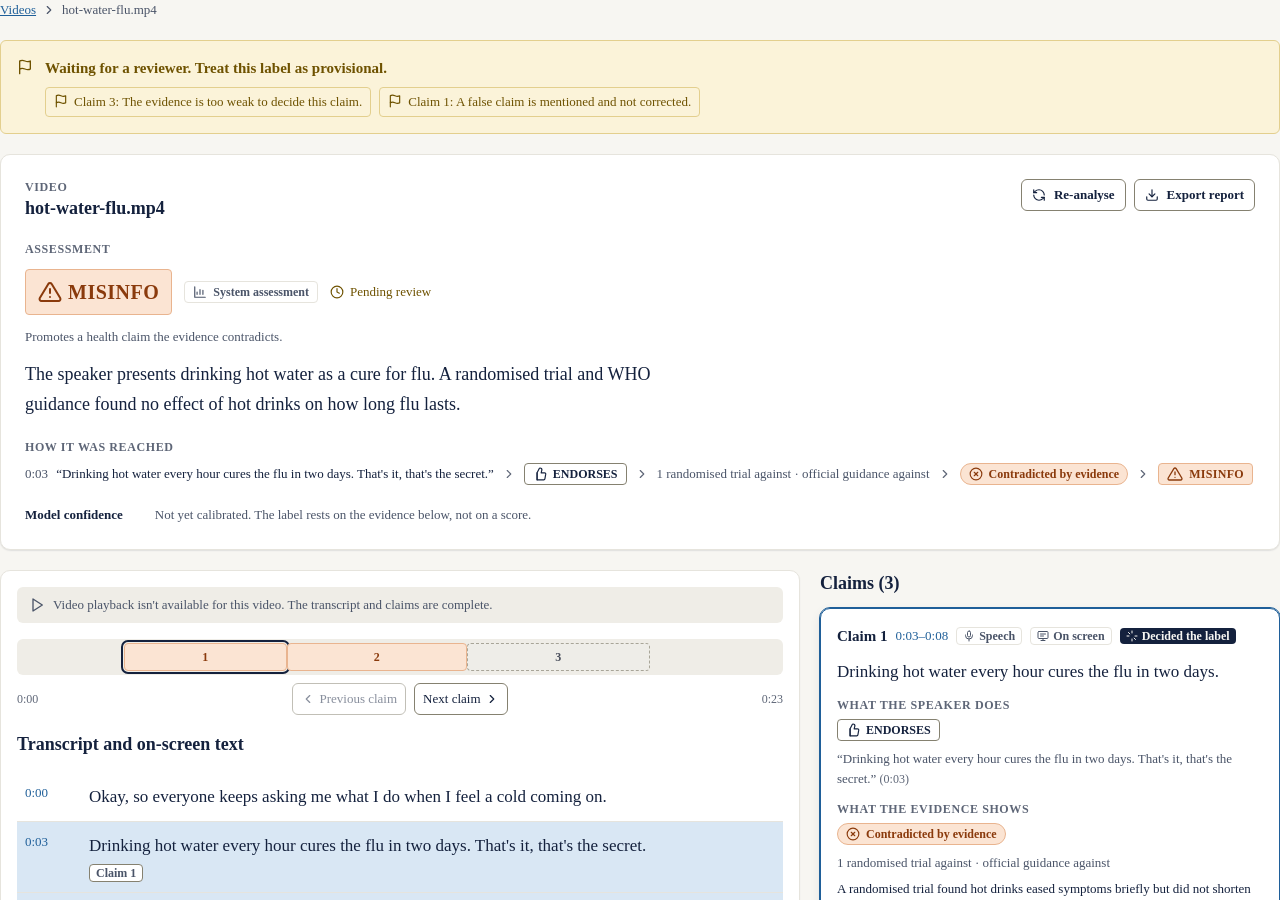
Scenario: Re-analyse button and dialog (T55) › keeps the dialog open with the reason when the server refuses (e.g. the rate limit)
Click the button "Re-analyse" at {"x": 1073, "y": 195}, box [1021, 179, 1126, 211]
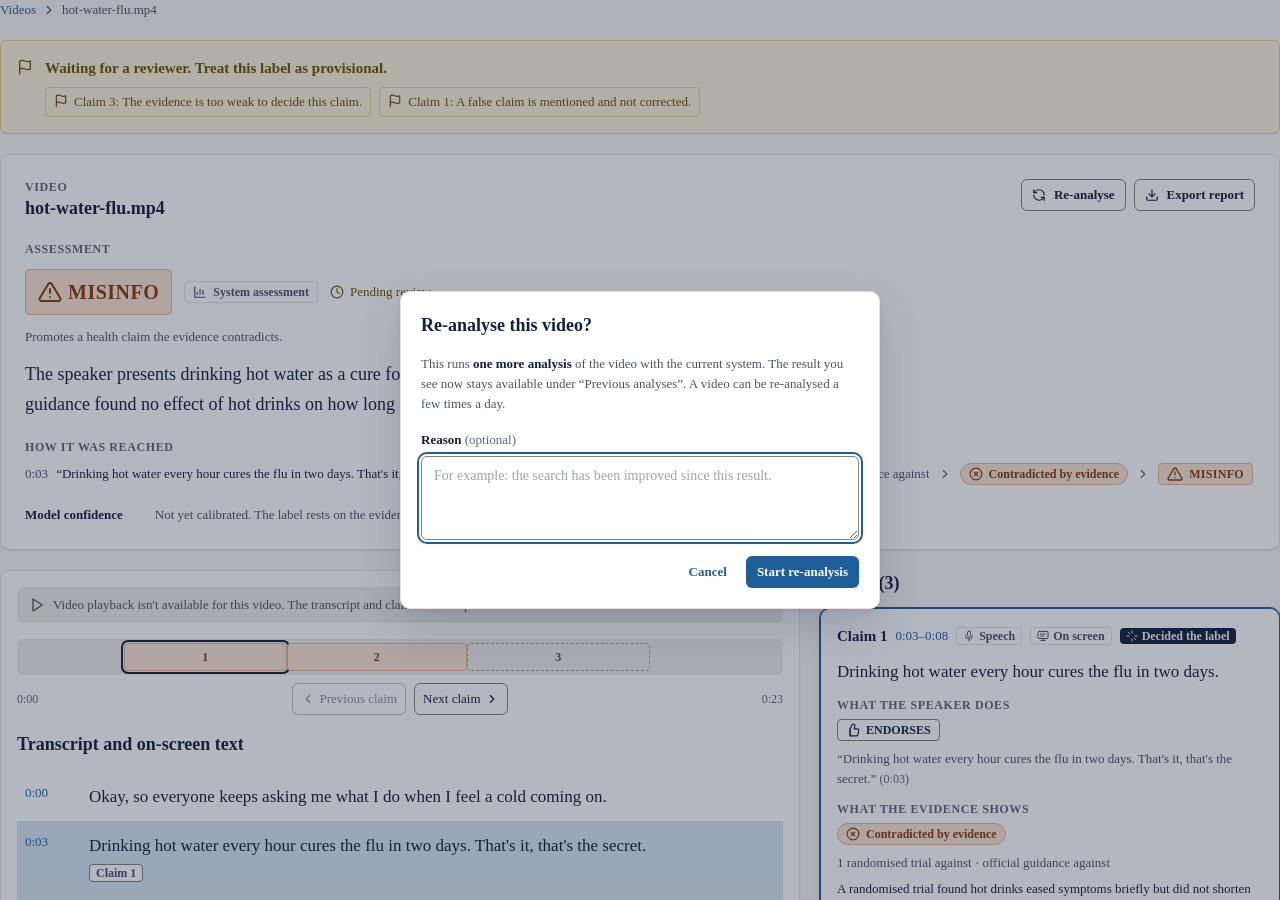
Click the button "Start re-analysis" at {"x": 802, "y": 572}, box [746, 556, 859, 588]
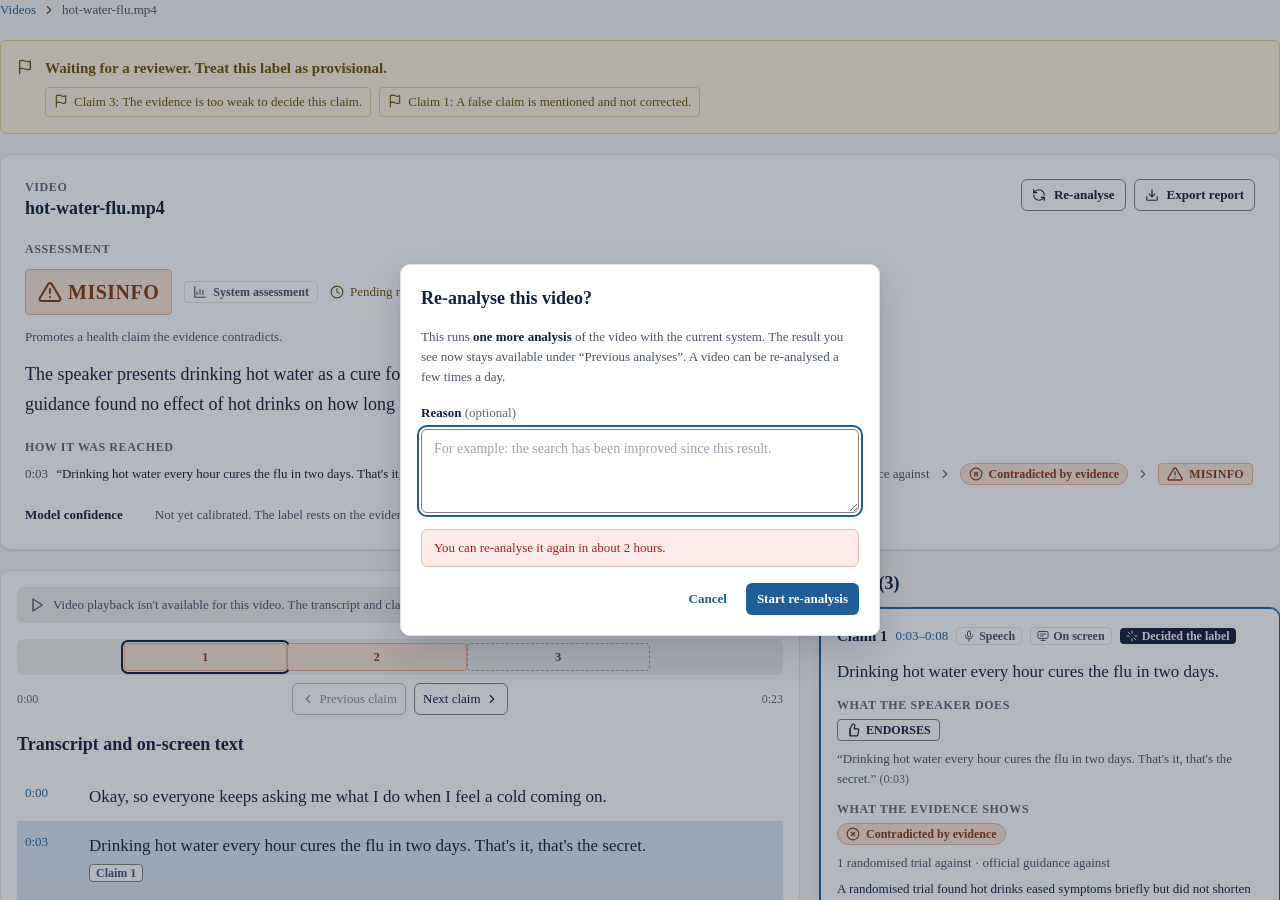
Now the message shows "in about 2 hours", box [434, 540, 666, 555]
Click the button "Cancel" at {"x": 708, "y": 599}, box [678, 583, 738, 615]
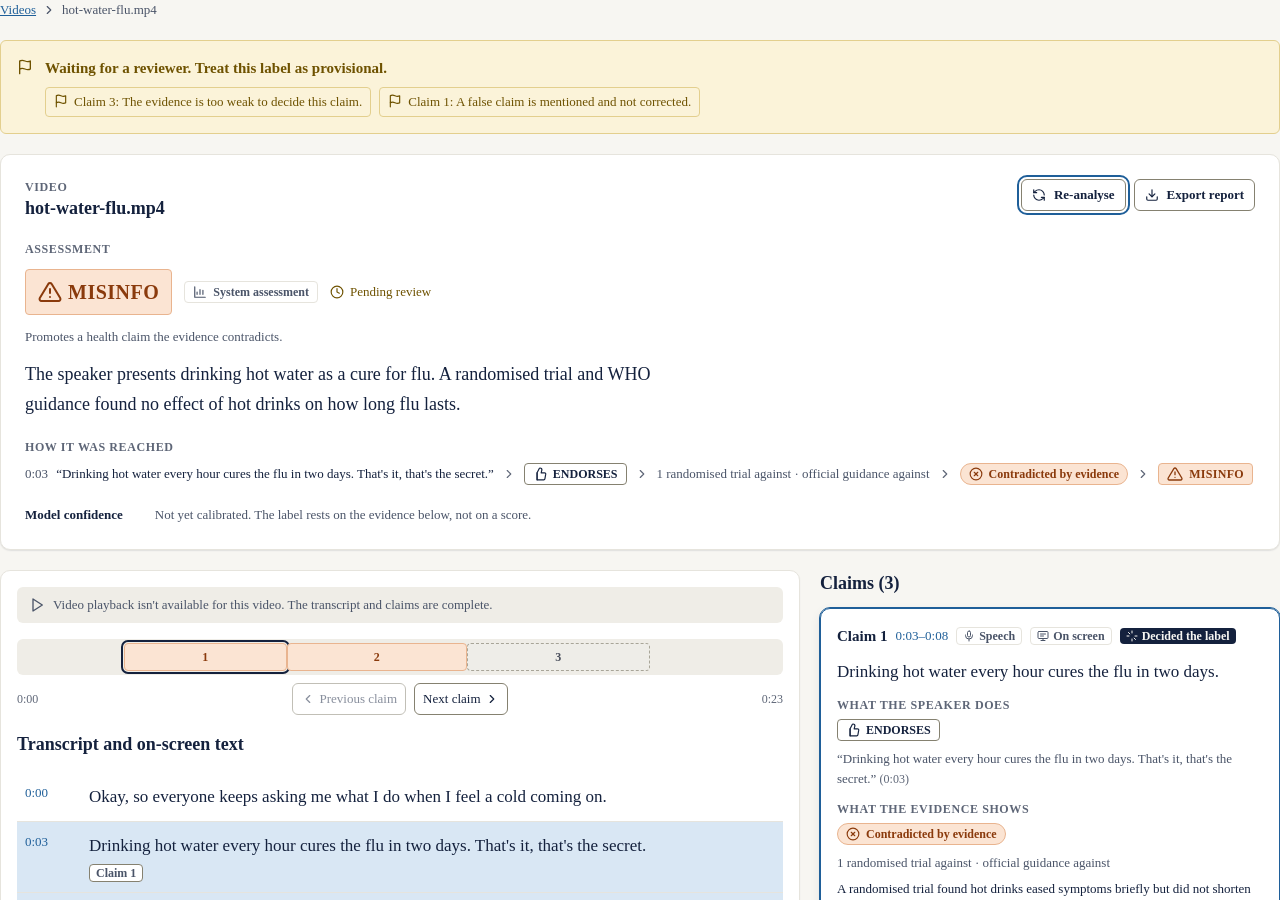
Now the dialog is gone
